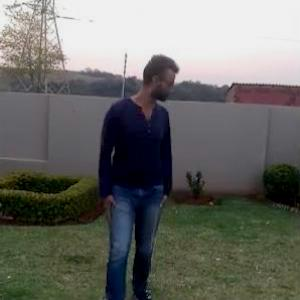follow: (94, 45, 181, 299)
